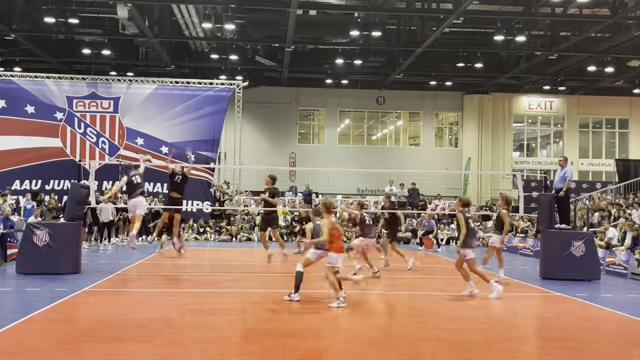attacco: (92, 151, 154, 248)
muro: (147, 147, 194, 259)
